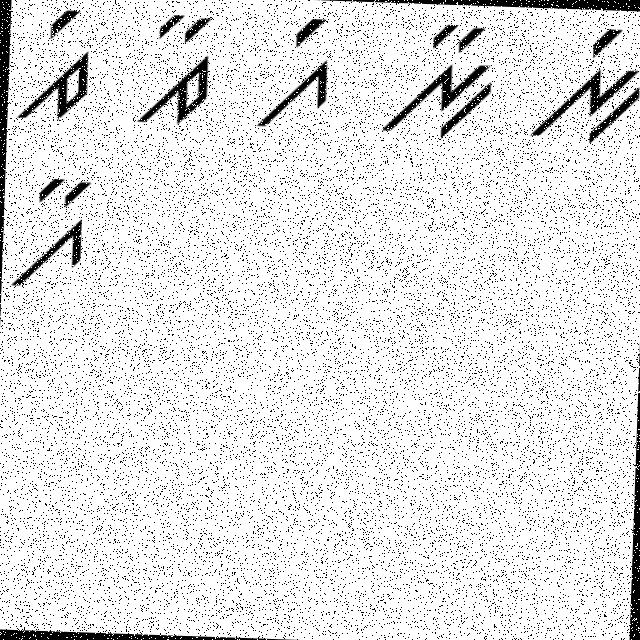gan: (10, 153, 99, 297)
gang: (239, 11, 340, 140)
ngan: (376, 13, 497, 154)
ngang: (524, 17, 639, 156)
tan: (134, 2, 221, 134)
tang: (12, 0, 97, 123)
